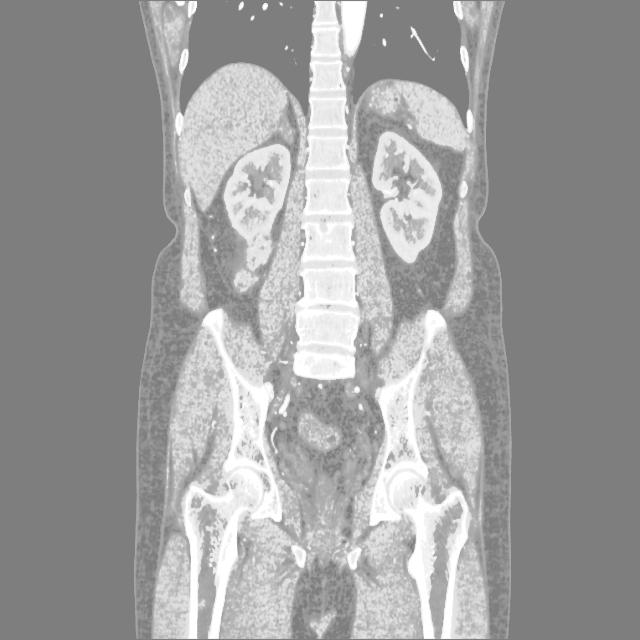TUMOR: (178, 179, 476, 445)
